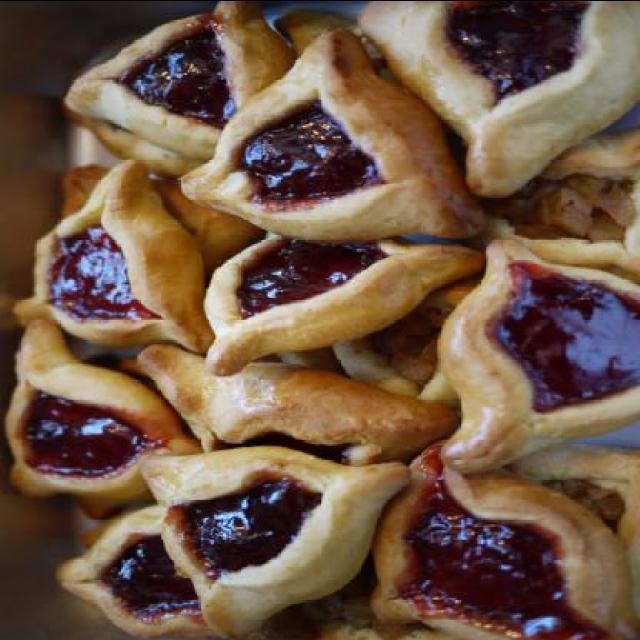Cookie: (0, 2, 638, 640)
